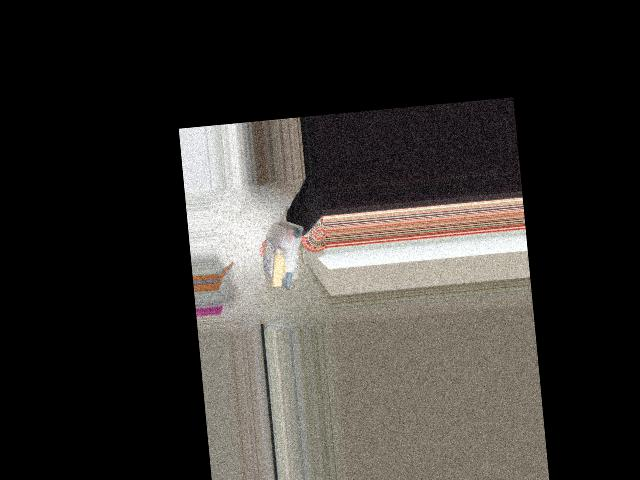cheese: (259, 219, 314, 293)
